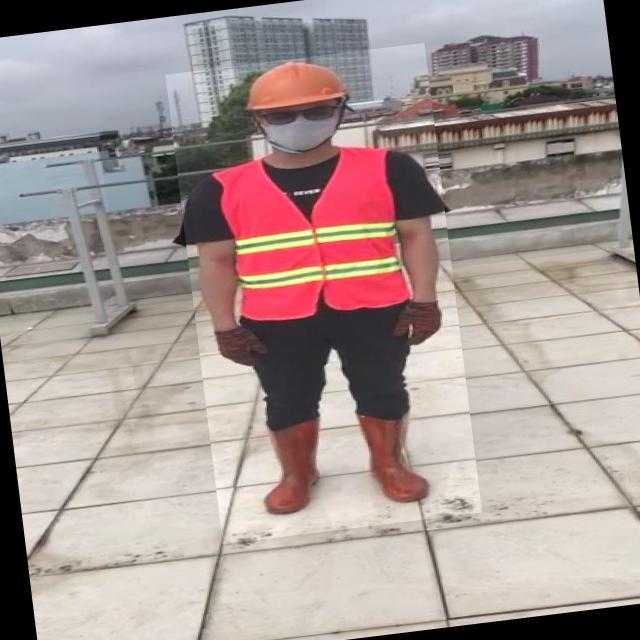Gloves: (211, 326, 271, 373), (386, 303, 445, 349)
Helmet: (235, 54, 357, 118)
Human: (165, 43, 482, 545)
Safety Boot: (251, 416, 332, 520), (361, 411, 434, 508)
Safety Vest: (215, 145, 411, 326)
